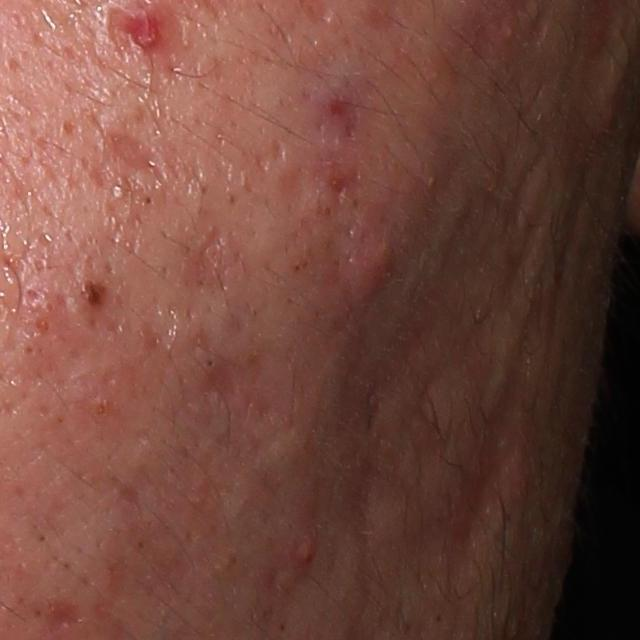atrophic_scar: (337, 164, 536, 499), (104, 121, 172, 195), (185, 224, 245, 301), (272, 164, 314, 224), (104, 1, 138, 63), (44, 596, 86, 636)
comedo: (204, 356, 219, 369)
nevus: (79, 271, 112, 312)
papule: (350, 230, 408, 297), (285, 531, 318, 576)
